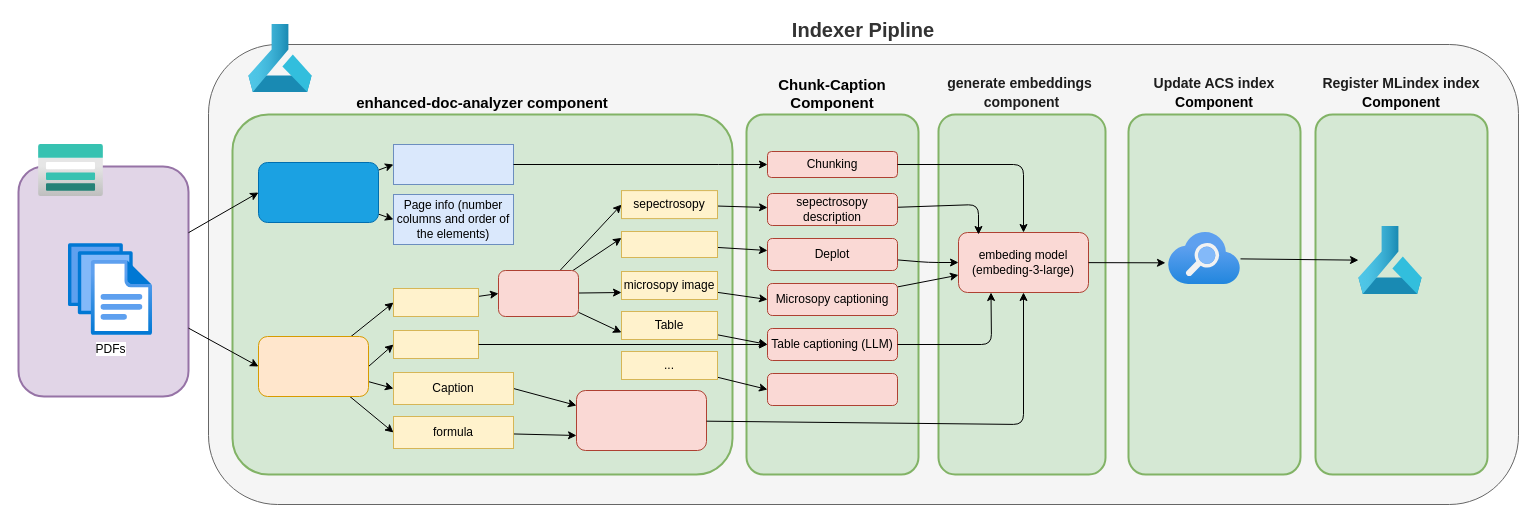
The diagram is 1536 pixels wide and 522 high, and some of its shapes have lost their labels. The centre of each missing label's shape, as x and y in pixels:
Azure Document inteligent: the point at 318,192
DETR (layout detection): the point at 313,366
Image classification & Tagging: the point at 538,293
Images: the point at 435,302
Nougat (OCR-latex): the point at 641,420
other captioning service: the point at 832,389
Plots: the point at 669,244
Storage: the point at 70,170
tables: the point at 435,344
Text (paragraphs): the point at 453,164
